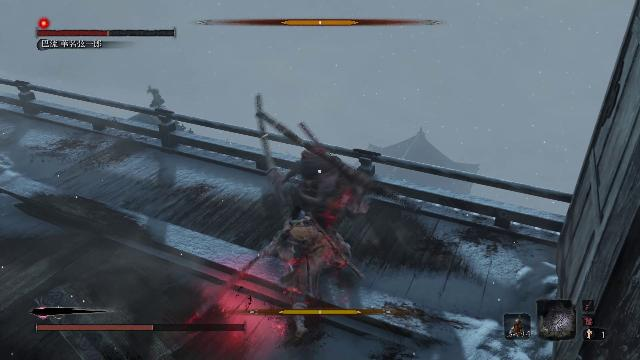sk: (274, 204, 363, 345)
